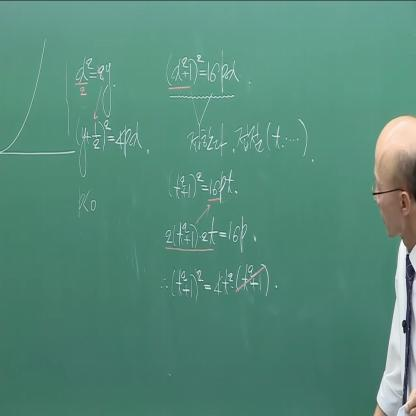streamer: (371, 114, 416, 416)
